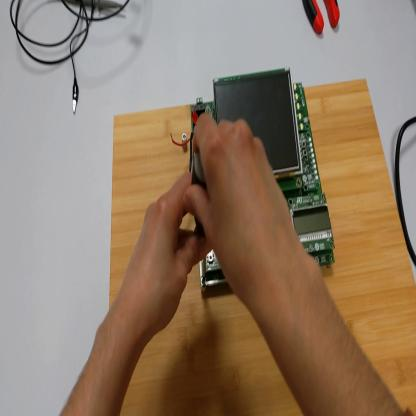hand: (186, 102, 297, 297), (125, 173, 206, 336)
low voltage board: (171, 71, 335, 291)
oscilloscope probe tip: (67, 1, 129, 13)
pliers: (303, 3, 341, 35)
screwdriver-: (191, 155, 206, 284)
working area: (110, 80, 415, 415)
